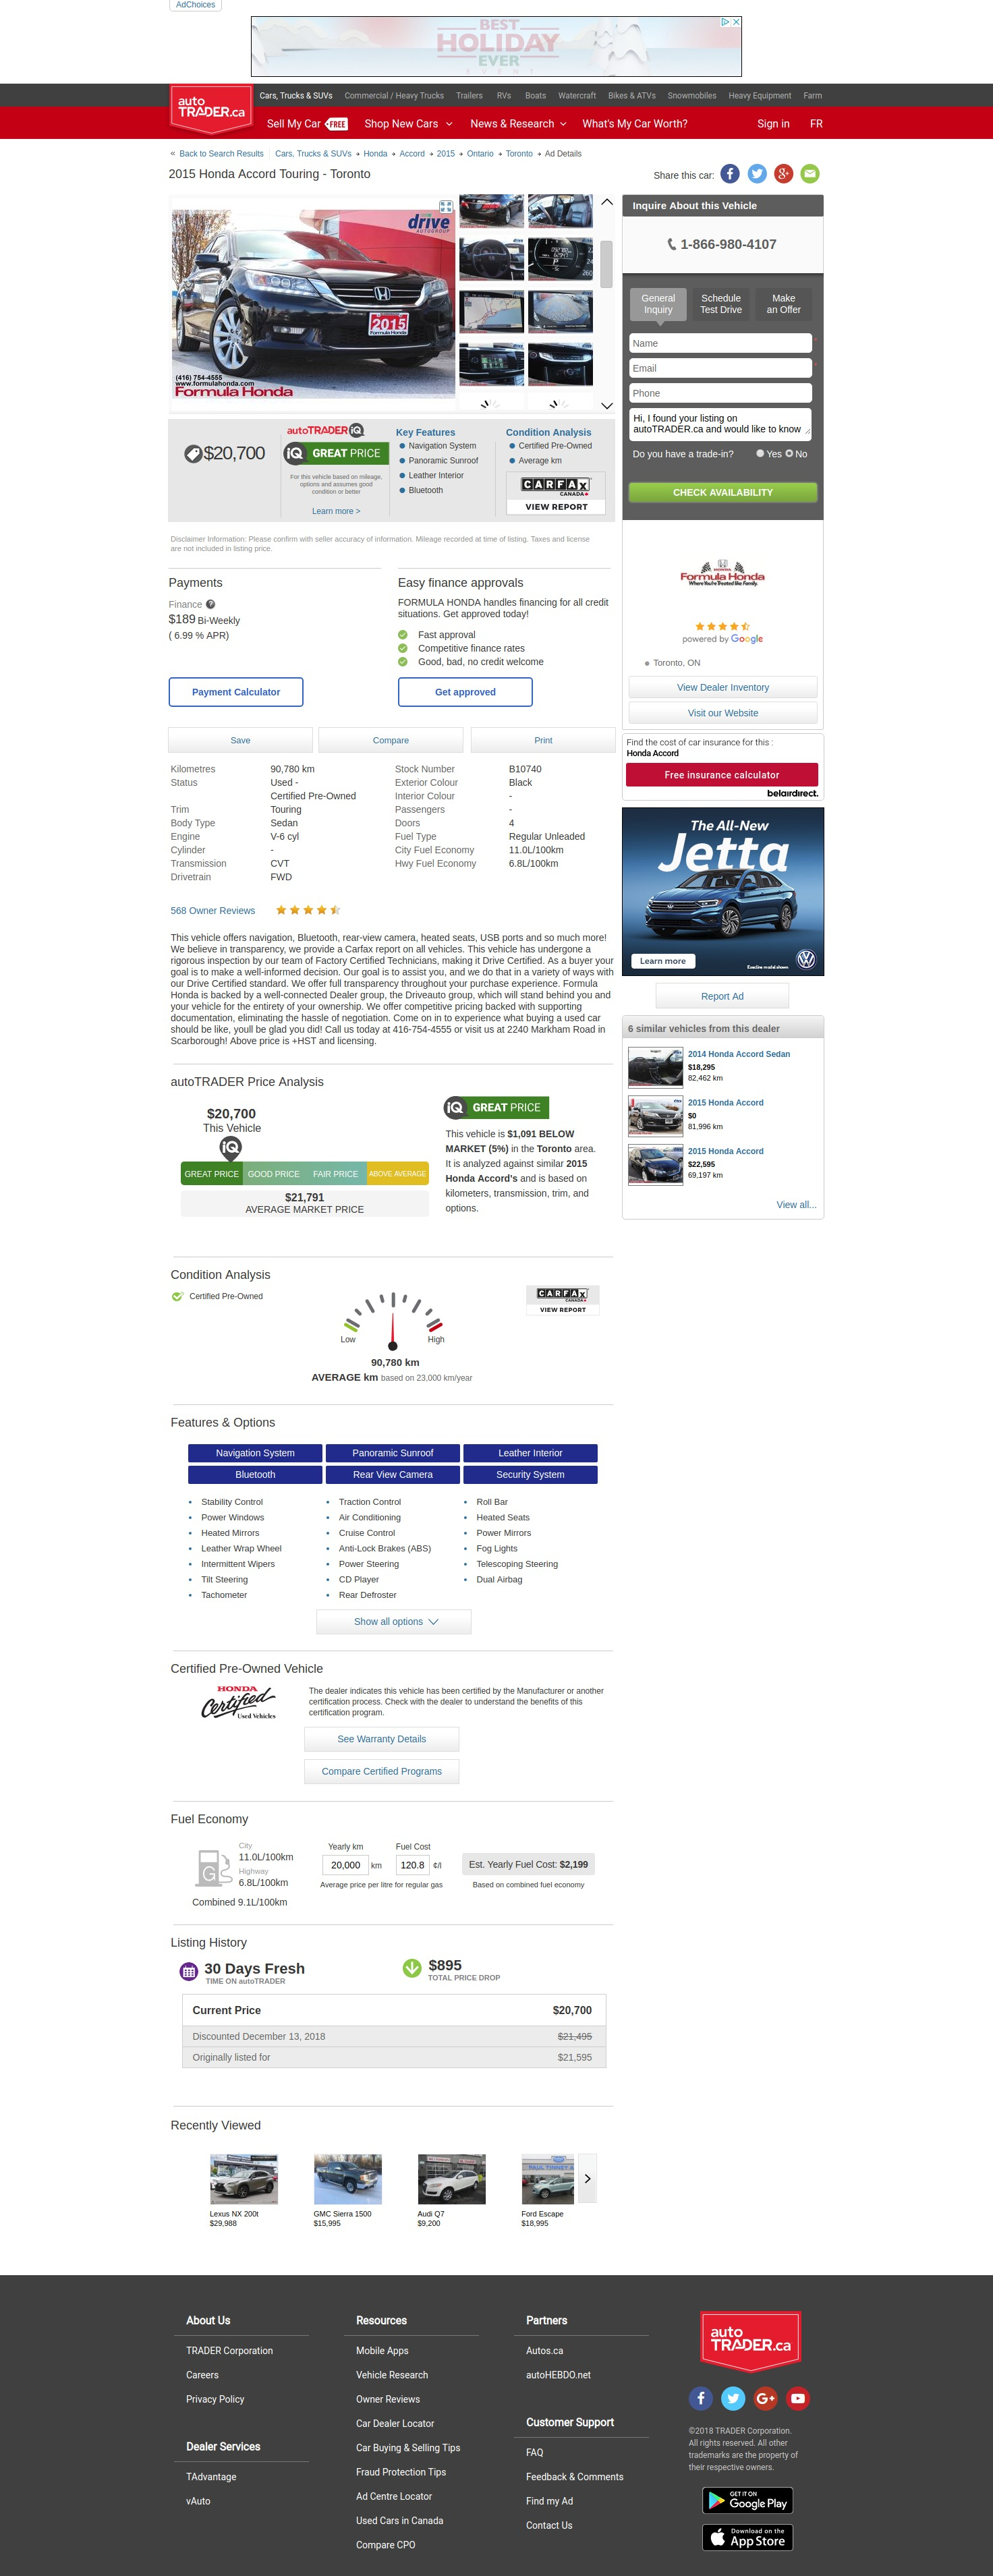car: (600, 402, 615, 412)
